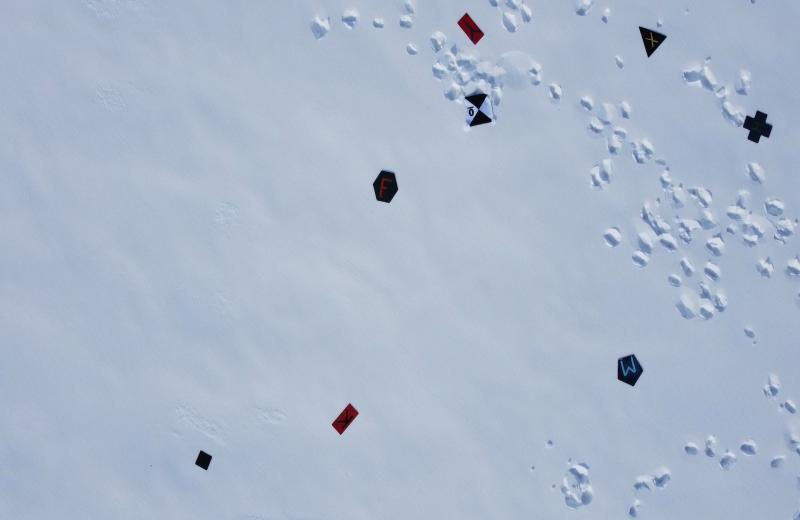Cross: (741, 106, 774, 144)
Hexagon: (370, 168, 402, 207)
Pentagon: (613, 350, 646, 389)
Rectangle: (330, 400, 360, 436), (457, 11, 485, 48)
Square: (194, 449, 214, 474)
Triangle: (637, 24, 669, 61)
